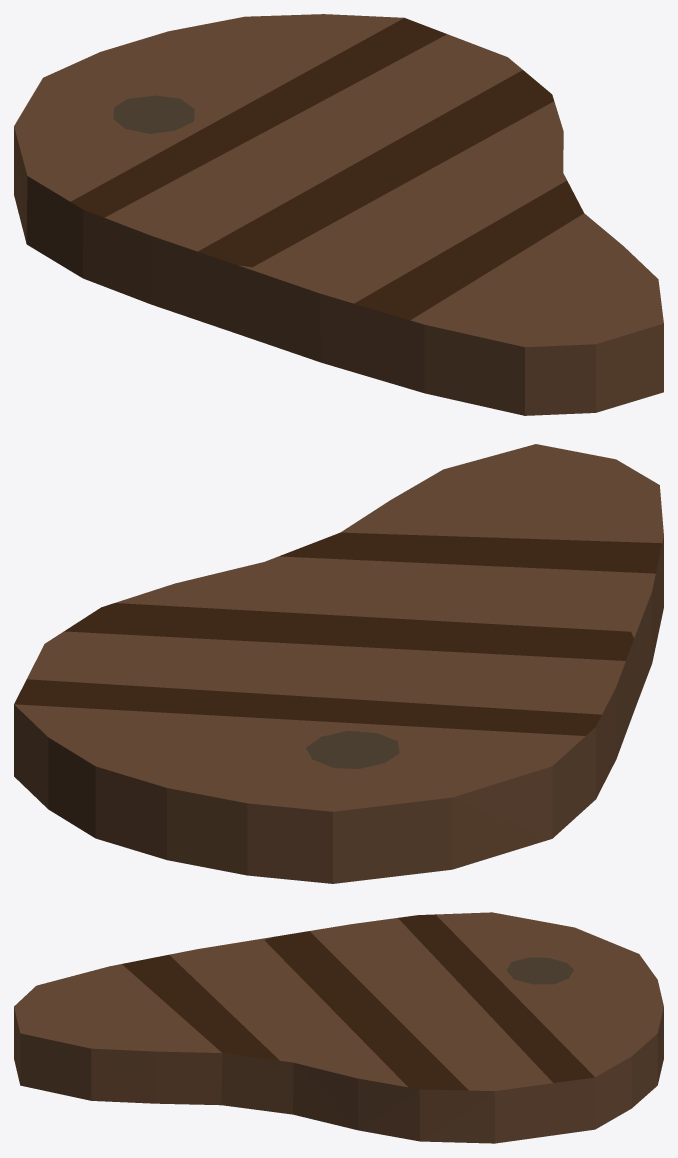
File: SteakCooked.fbx
3 renders of one model, top to bottom at view 1: azimuth 30°, elevation 25°; view 2: azimuth 150°, elevation 25°; view 3: azimuth 270°, elevation 25°, orthographic. The views are drawn at different scales.
Parts seen in each view (by area): view 1: Cylinder, Cylinder.001, Cylinder.002; view 2: Cylinder, Cylinder.001, Cylinder.002; view 3: Cylinder, Cylinder.001, Cylinder.002.
Boxes of the visible parts, x1,y1,x2,y2 form: Cylinder: (14,14,663,415); Cylinder.001: (71,18,583,320); Cylinder.002: (113,95,194,133); Cylinder: (14,444,663,883); Cylinder.001: (14,532,662,735); Cylinder.002: (306,731,399,768); Cylinder: (14,912,663,1143); Cylinder.001: (122,914,594,1090); Cylinder.002: (507,957,573,984).
Bounding box in the file's own units: 50.23 × 6.83 × 77.02.
